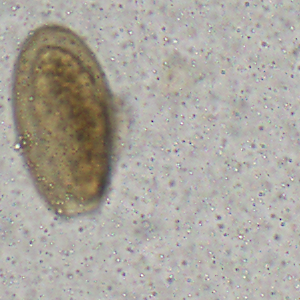Fasciola_hepatica_egg: (10, 23, 115, 219)
